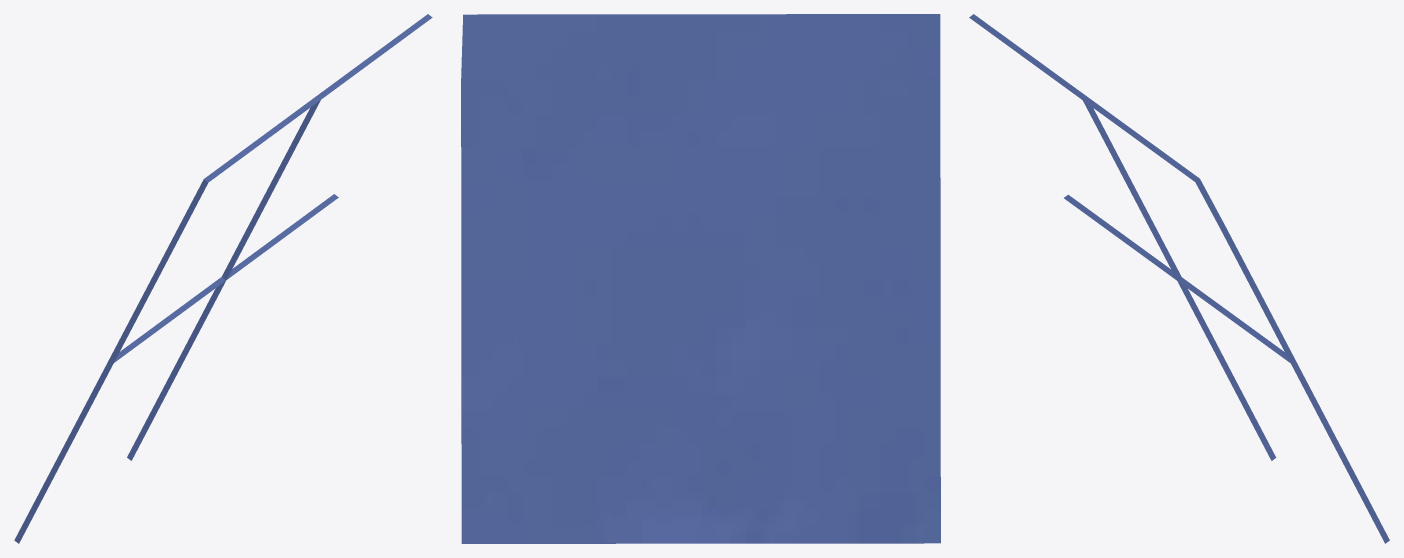
The picture shows the model from 3 angles, left to right: view 1: azimuth 30°, elevation 25°; view 2: azimuth 150°, elevation 25°; view 3: azimuth 270°, elevation 25°; orthographic projection. The views are drawn at different scales.
Bounding box in the file's own units: 19693 × 17737 × 16512.
1 material, 1 textured.
